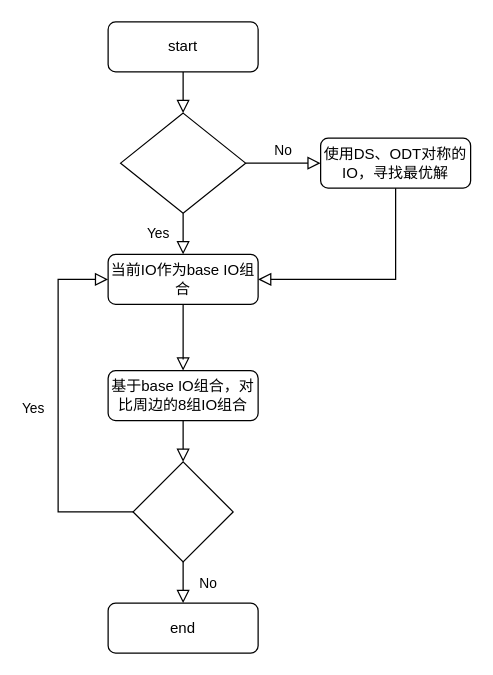
Some shapes in this 493 by 675 pixel diagram are drawn without their labels. The centre of each missing label's shape, as x and y in pixels:
"存在可用IO组合" belongs at point 182,162.
"存在更优组合" belongs at point 182,511.
